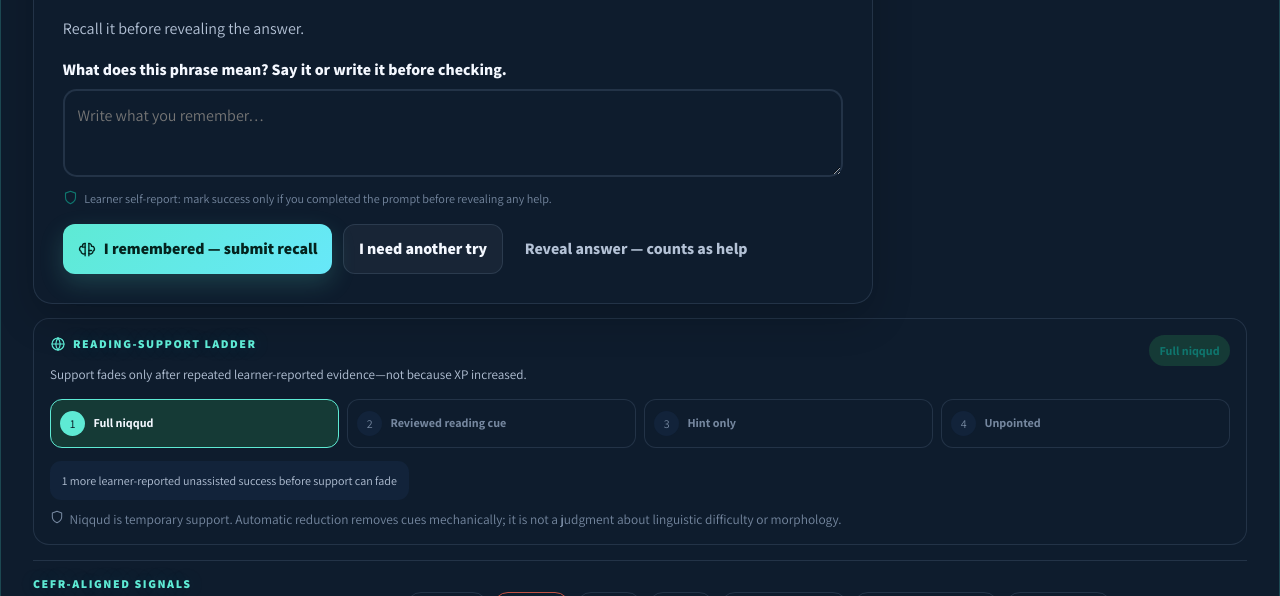
Test: LearningCoreJourney › dismisses the previous attempt outcome once the learner starts the next activity
(page scrolled)
Click the button "I remembered — submit recall" at [198, 249], box [63,224,332,274]
(page scrolled)
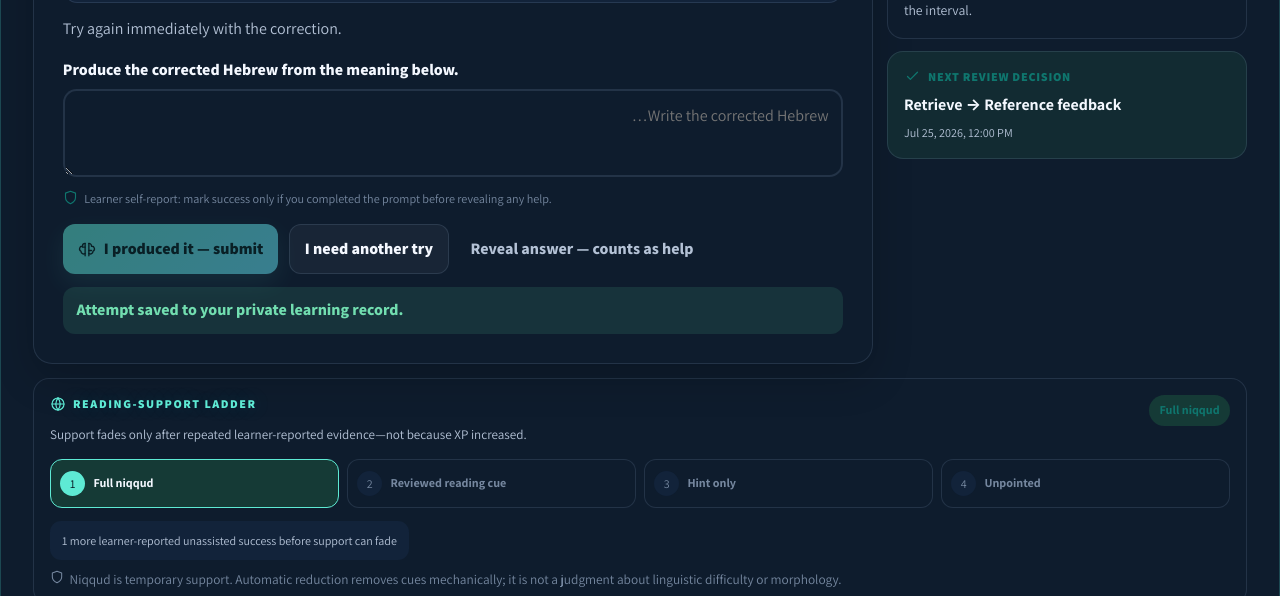
Now the text "Attempt saved to your private learning record." is shown, box [63,287,844,334]
Now the text "Retrieve → Reference feedback" is shown, box [904,94,1121,115]
Type "שלום" into the text box with placeholder "Write the corrected Hebrew…" at [453, 133], box [63,89,844,177]
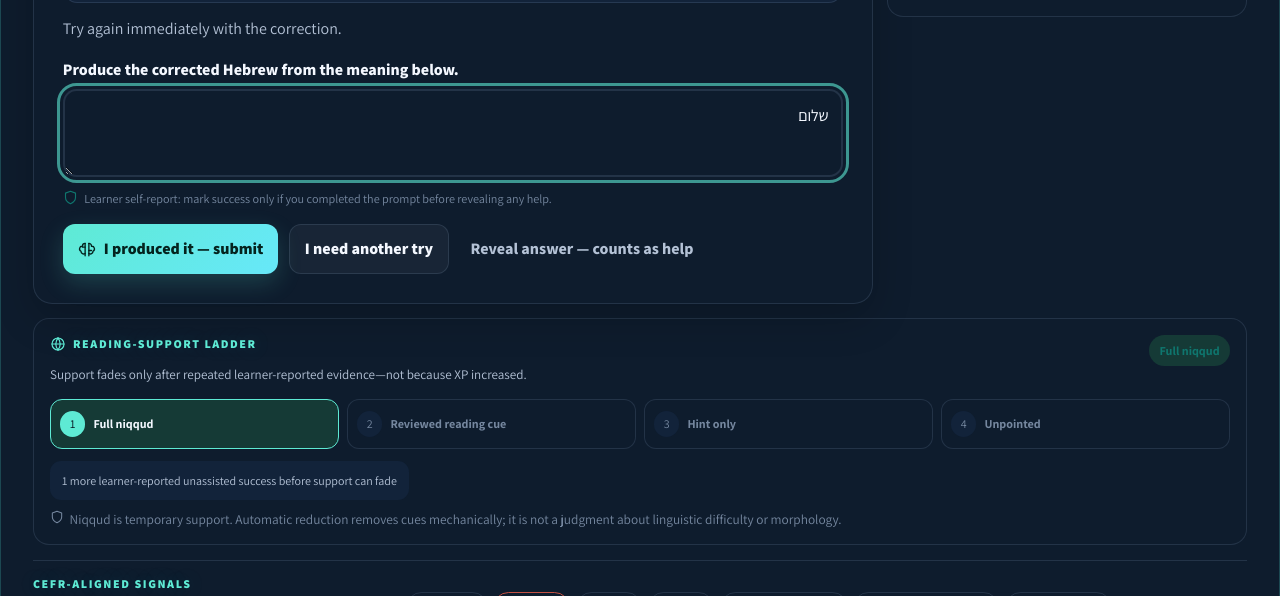
Now the text "Attempt saved to your private learning record." is gone
Now the text "Retrieve → Reference feedback" is gone
